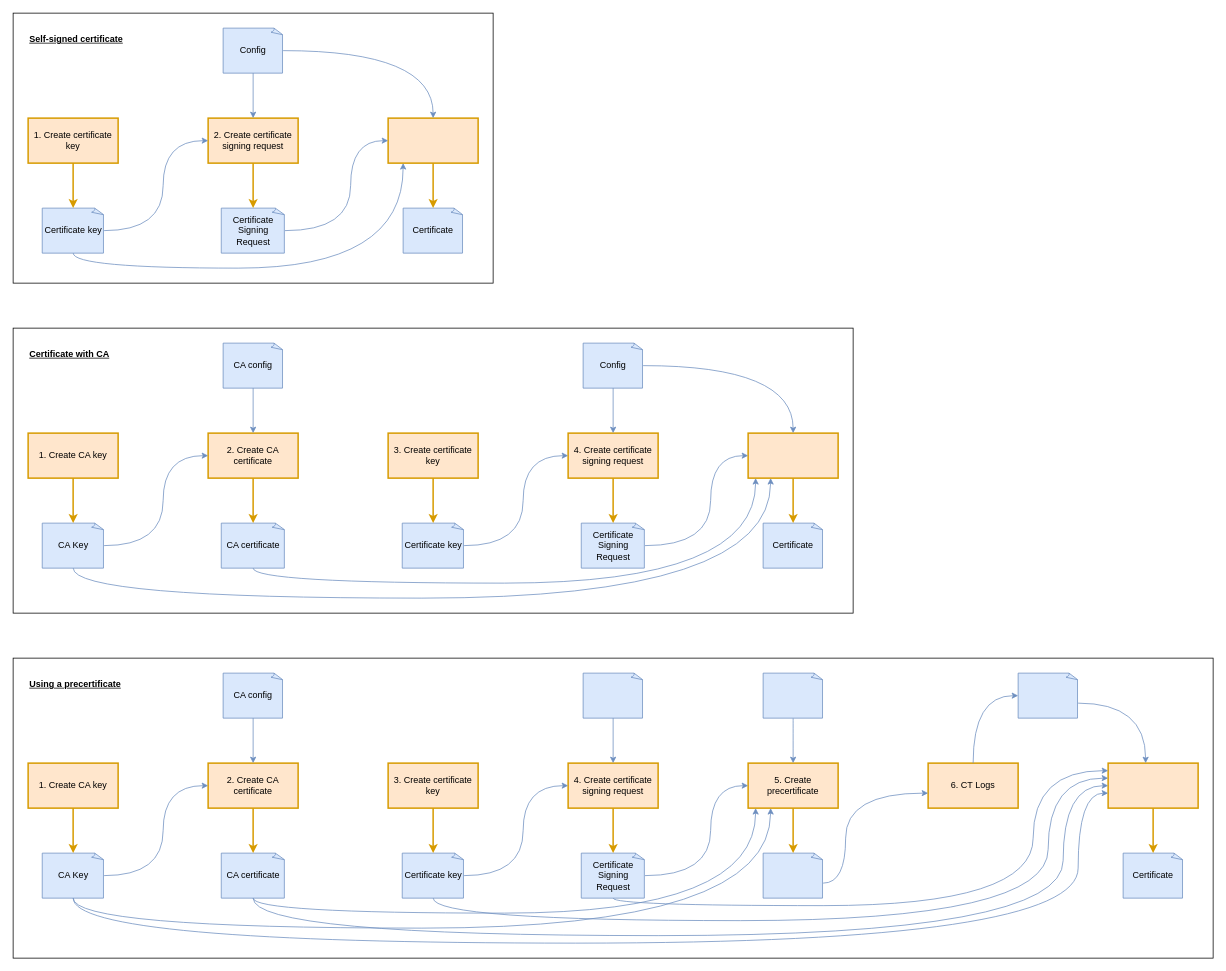
Some shapes in this 1226 by 971 pixel diagram are drawn without their labels. The centre of each missing label's shape, as x and y in pixels:
3. Create certificate: (x=432, y=140)
5. Create certificate: (x=792, y=455)
7. Create certificate: (x=1152, y=785)
Config (dn): (x=612, y=695)
Config: extension (SCT poisoned): (x=792, y=695)
Config: extension (SCT): (x=1047, y=695)
Precertificate: (x=792, y=875)
